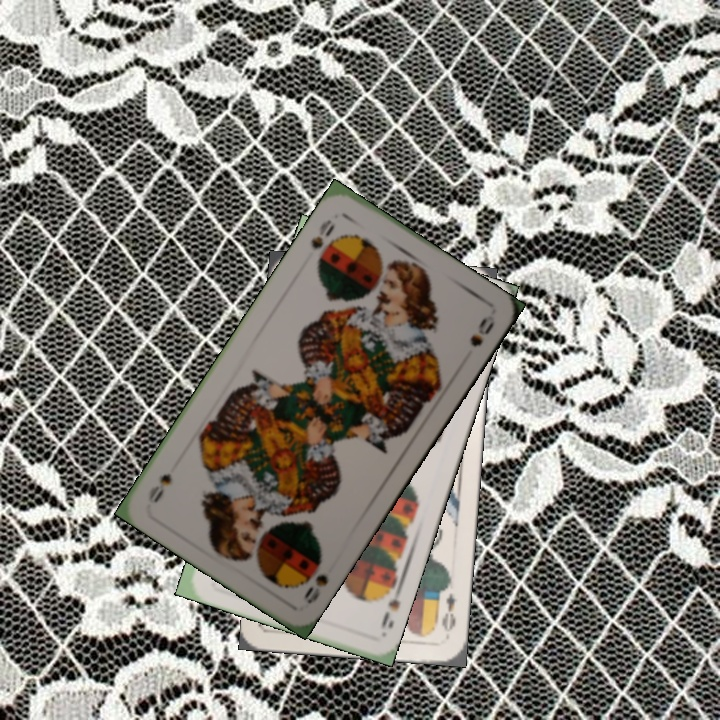EO: (438, 588, 459, 634)
S9: (376, 578, 406, 637)
SO: (298, 550, 331, 607), (306, 215, 338, 252)
